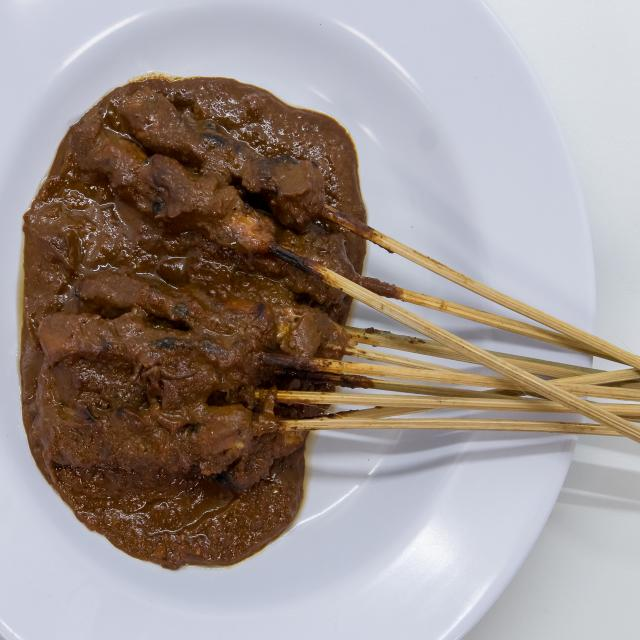Sate-Ayam: (14, 58, 401, 583)
